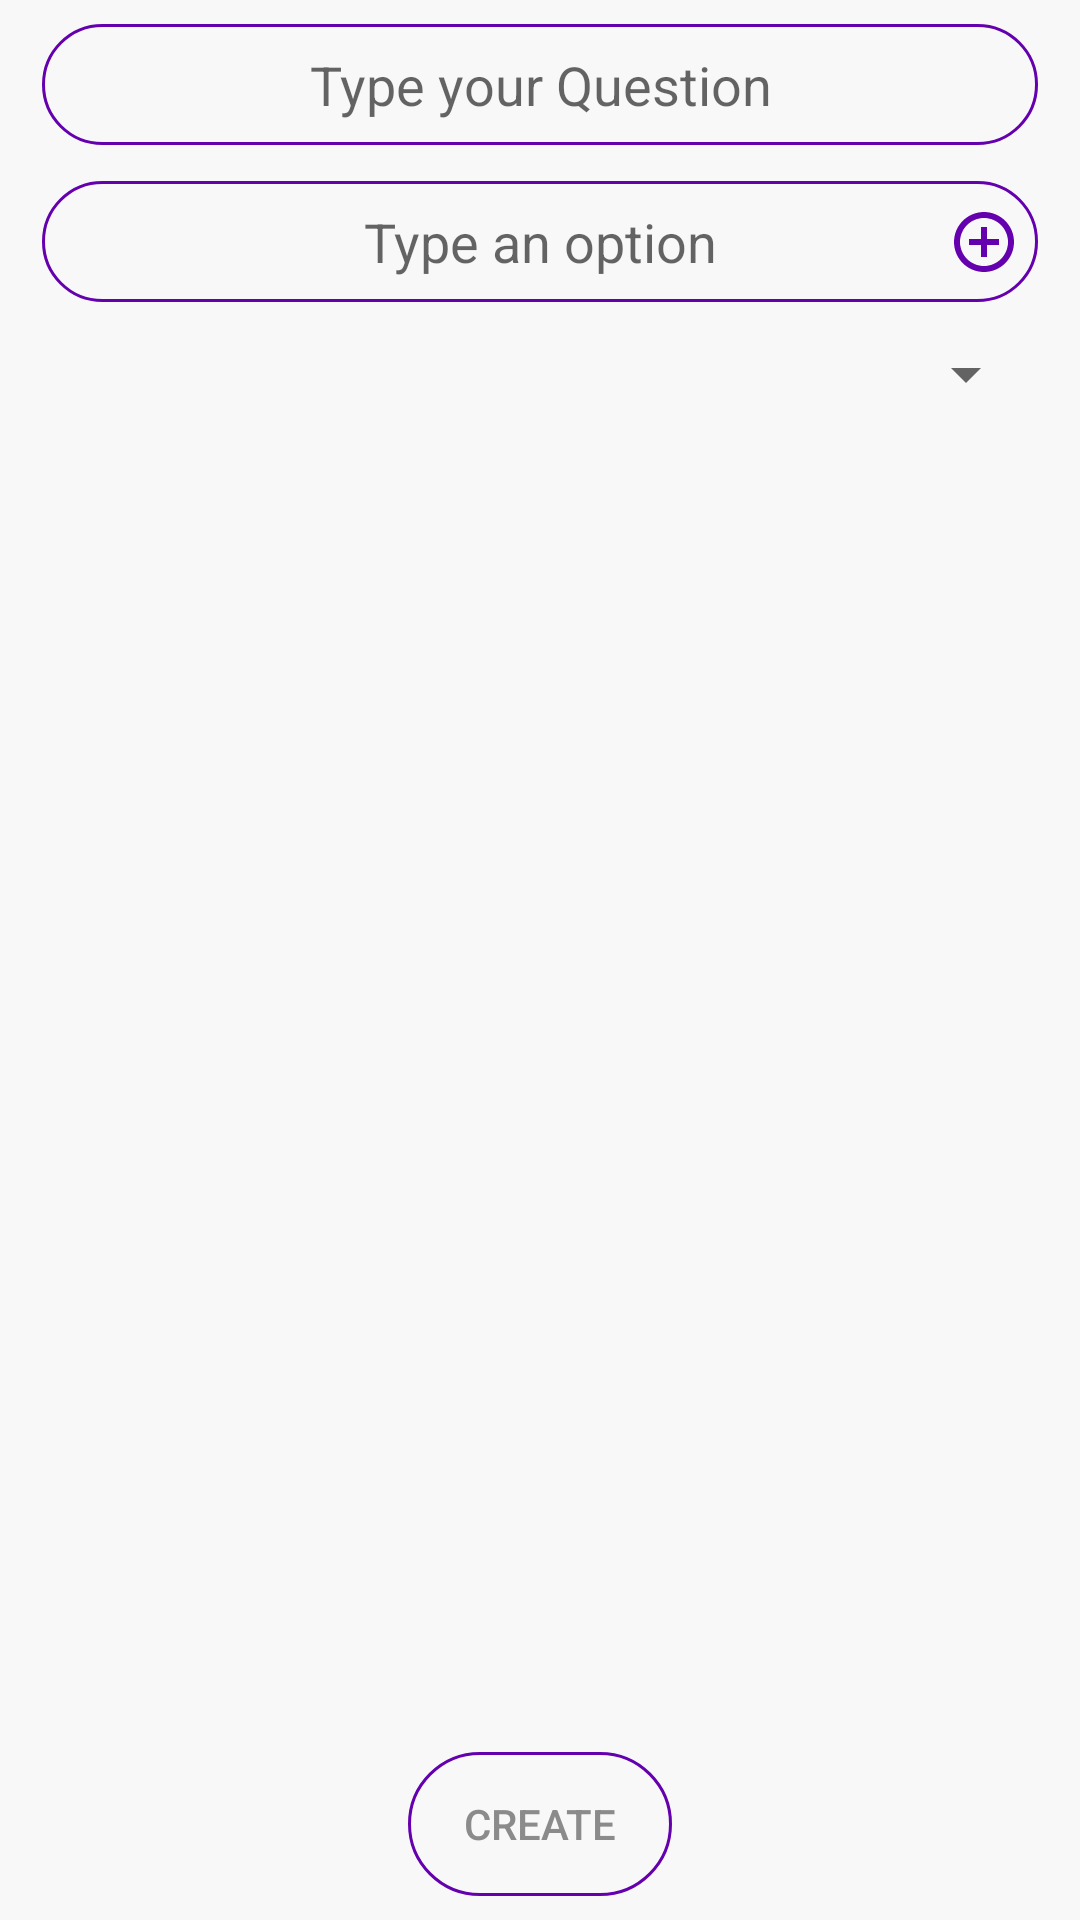

Icon bounding boxes for this 1080px x 1920px phone screenshot, format (x1, y1, x2, y2):
add circle: (954, 212, 1014, 272)
